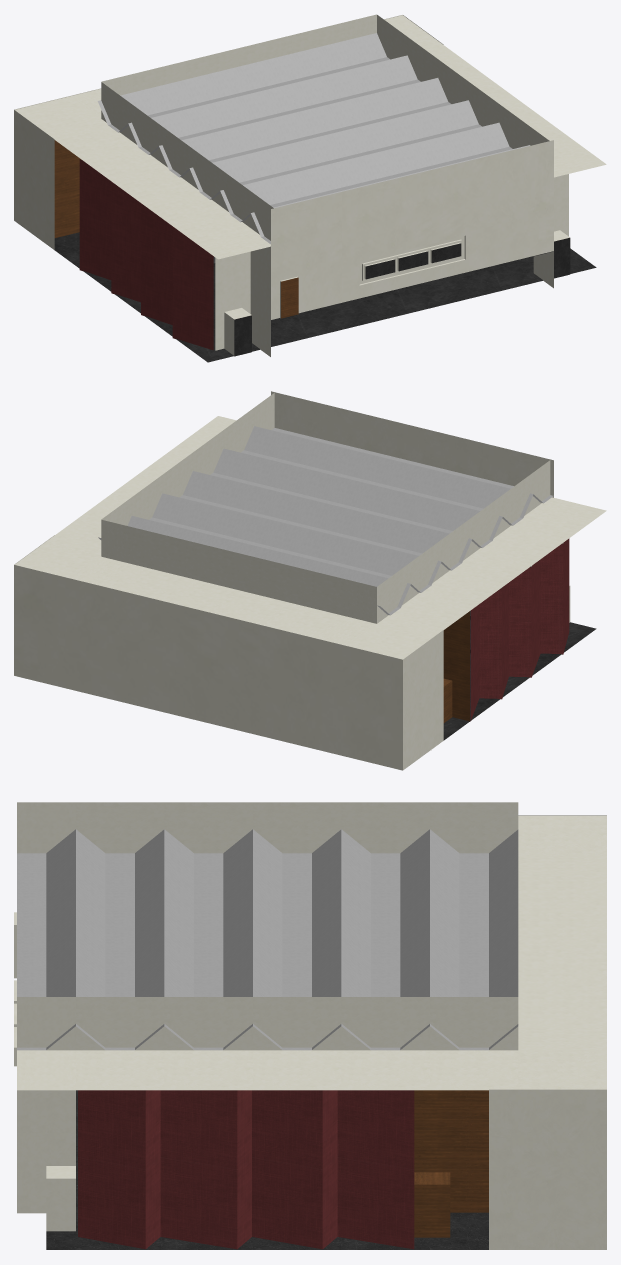
File: Auditorium.glb
3 renders of one model, top to bottom at view 1: azimuth 30°, elevation 25°; view 2: azimuth 150°, elevation 25°; view 3: azimuth 270°, elevation 25°, orthographic. The views are drawn at different scales.
Visible parts, largest first — view 1: Auditorium_Walls.003, Auditorium_Roof.004, Auditorium_Roof 2.002, Auditorium_WallsSide.004, Auditorium_EntranceBack, Auditorium_EntranceFront.001; view 2: Auditorium_Walls.003, Auditorium_Roof 2.002, Auditorium_Roof.004, Auditorium_WallsSide.004, Auditorium_EntranceFront.001; view 3: Auditorium_Roof 2.002, Auditorium_Roof.004, Auditorium_WallsSide.004, Auditorium_Walls.003, Auditorium_EntranceFront.001, Auditorium_EntranceBack.
Part boxes in pixels (x1,y1,x2,y2): Auditorium_Walls.003: (14,15,596,362); Auditorium_Roof.004: (97,33,530,244); Auditorium_Roof 2.002: (15,14,606,259); Auditorium_WallsSide.004: (79,159,213,350); Auditorium_EntranceBack: (215,174,570,356); Auditorium_EntranceFront.001: (54,140,81,237); Auditorium_Walls.003: (14,391,596,770); Auditorium_Roof 2.002: (15,393,606,659); Auditorium_Roof.004: (98,426,553,615); Auditorium_WallsSide.004: (470,538,569,721); Auditorium_EntranceFront.001: (443,611,469,722); Auditorium_Roof 2.002: (17,802,606,1090); Auditorium_Roof.004: (17,829,518,1050); Auditorium_WallsSide.004: (78,1090,414,1249); Auditorium_Walls.003: (14,815,606,1249); Auditorium_EntranceFront.001: (414,1090,488,1237); Auditorium_EntranceBack: (17,1090,75,1231).
Size of what is drawn, in the model's own units: 221 by 80.28 by 201.
Materials: 2 (1 with a texture image).
